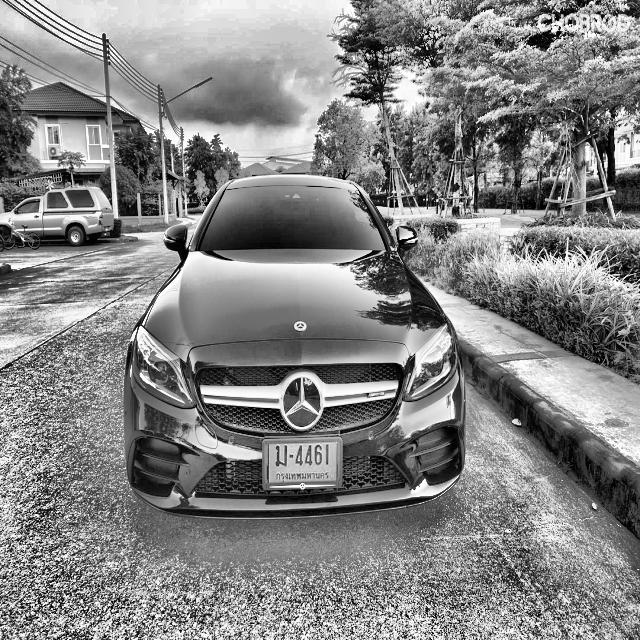license-plate: (262, 434, 346, 494)
